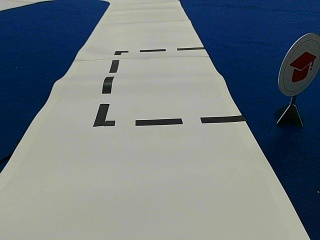school: (278, 34, 318, 94)
